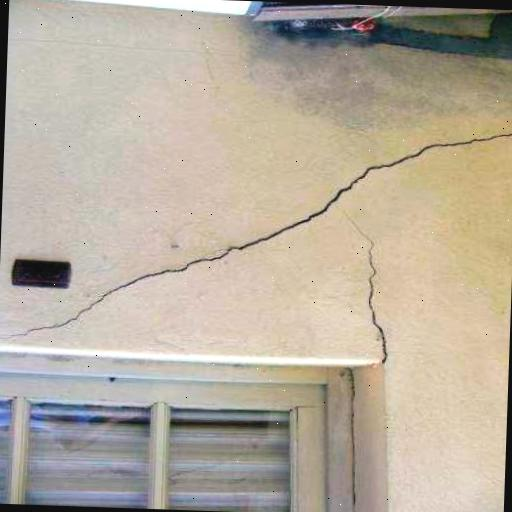spalling: (23, 126, 509, 343), (343, 213, 393, 363)
